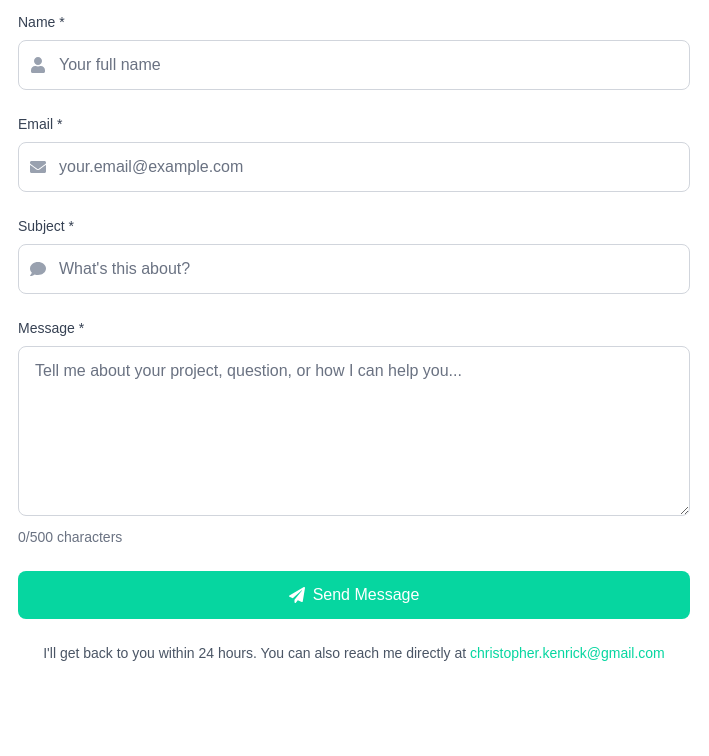
Test case: ContactForm Component › shows success message after successful submission
// Fill out and submit form
Step 1. Type "John Doe" into the field labelled "Name *" → {"x": 354, "y": 65}, box x1=18 y1=40 x2=690 y2=90
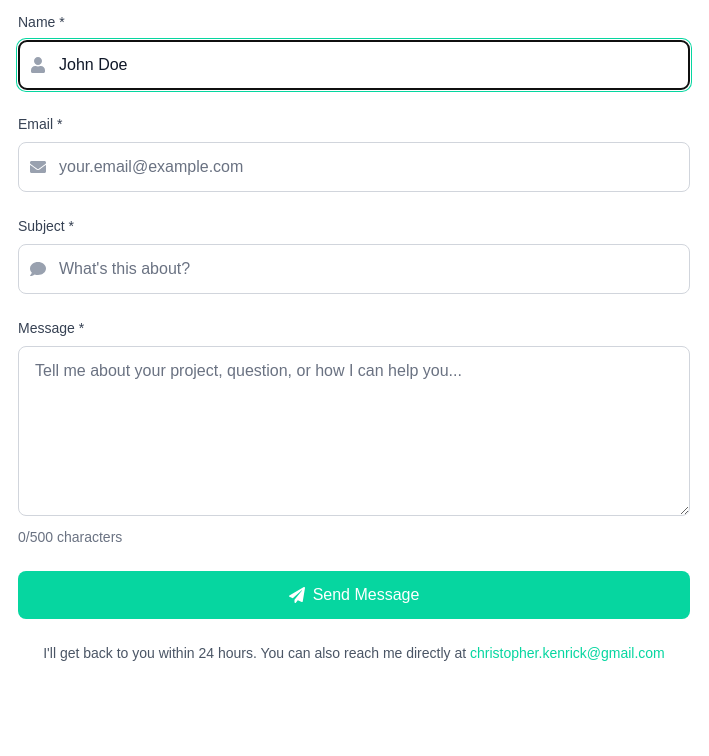
Step 2. Type "john@example.com" into the field labelled "Email *" → {"x": 354, "y": 167}, box x1=18 y1=142 x2=690 y2=192
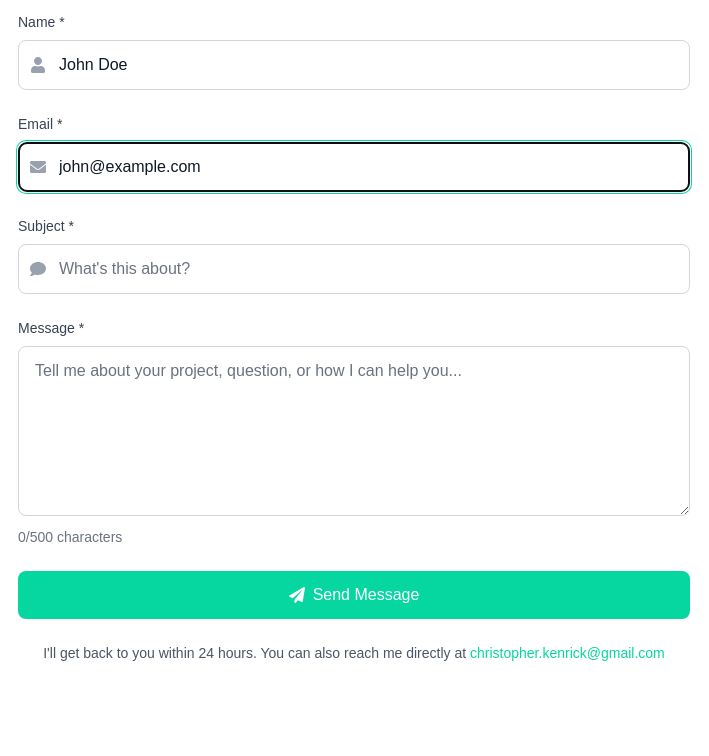
Step 3. Type "Test Subject" into the field labelled "Subject *" → {"x": 354, "y": 269}, box x1=18 y1=244 x2=690 y2=294
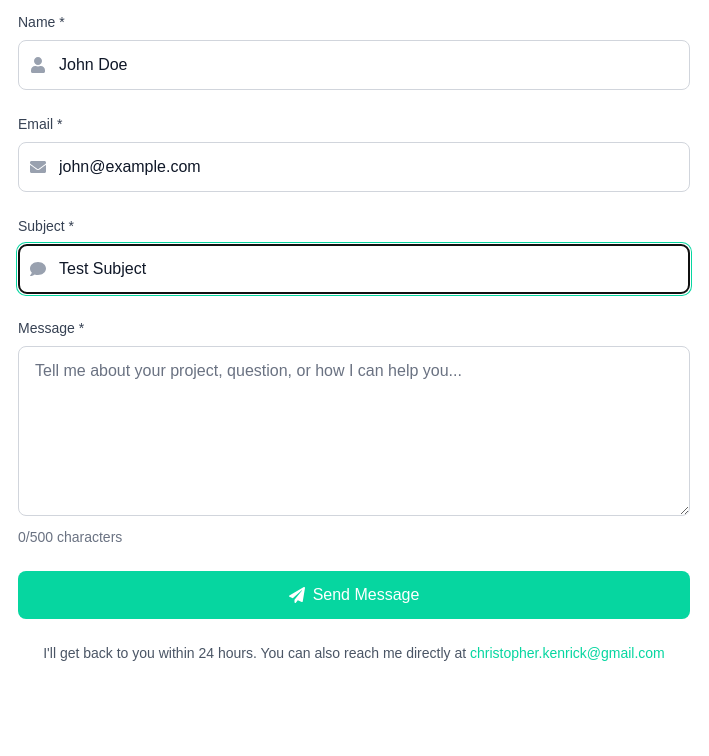
Step 4. Type "This is a test message with sufficient length" into the text box labelled "Message *" → {"x": 354, "y": 431}, box x1=18 y1=346 x2=690 y2=516
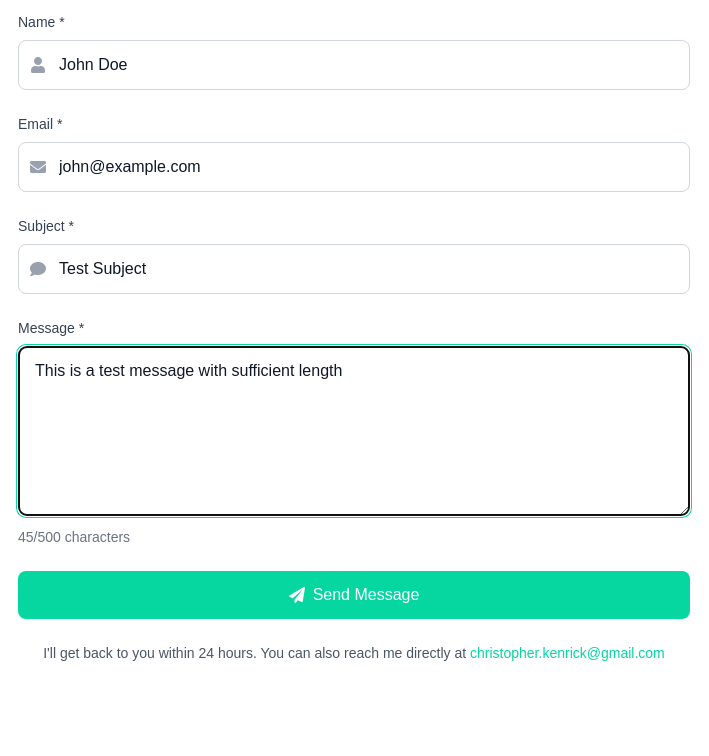
Step 5. Click the button "Send Message" → {"x": 354, "y": 595}, box x1=18 y1=571 x2=690 y2=619
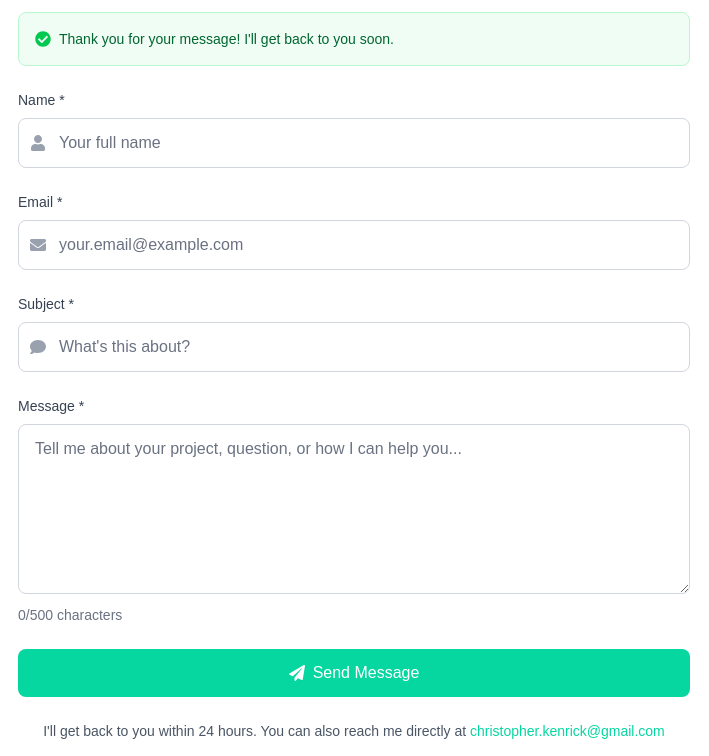
Result: the text "Thank you for your message! I'll get back to you soon." is shown at x1=59 y1=29 x2=394 y2=49
